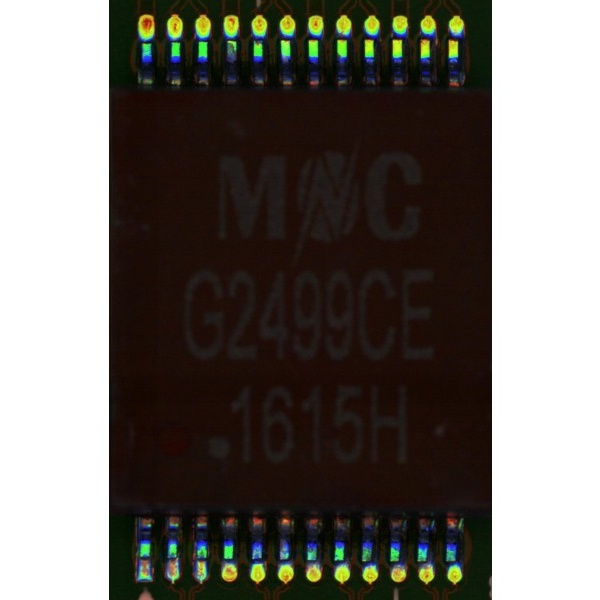Bad_podu: (139, 552, 149, 572), (196, 553, 204, 571), (168, 553, 176, 571)
